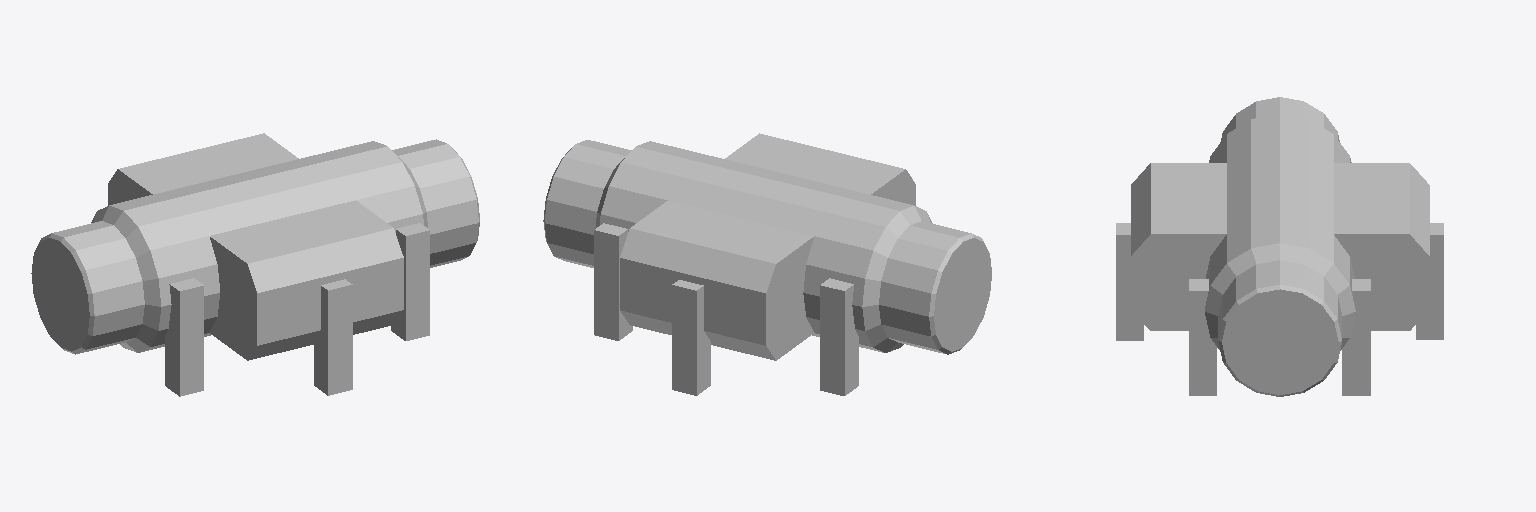
File: AdministrationOutMesh.obj
The picture shows the model from 3 angles: view 1: azimuth 30°, elevation 25°; view 2: azimuth 150°, elevation 25°; view 3: azimuth 270°, elevation 25°; orthographic projection.
Parts seen in each view (by area): view 1: Cylinder.042; view 2: Cylinder.042; view 3: Cylinder.042.
Part boxes in pixels (left/top/right/bottom): Cylinder.042: left=31, top=133, right=479, bottom=396; Cylinder.042: left=543, top=133, right=991, bottom=395; Cylinder.042: left=1116, top=97, right=1443, bottom=396.
Size of the model in its own units: 7.76 by 2.94 by 5.65.